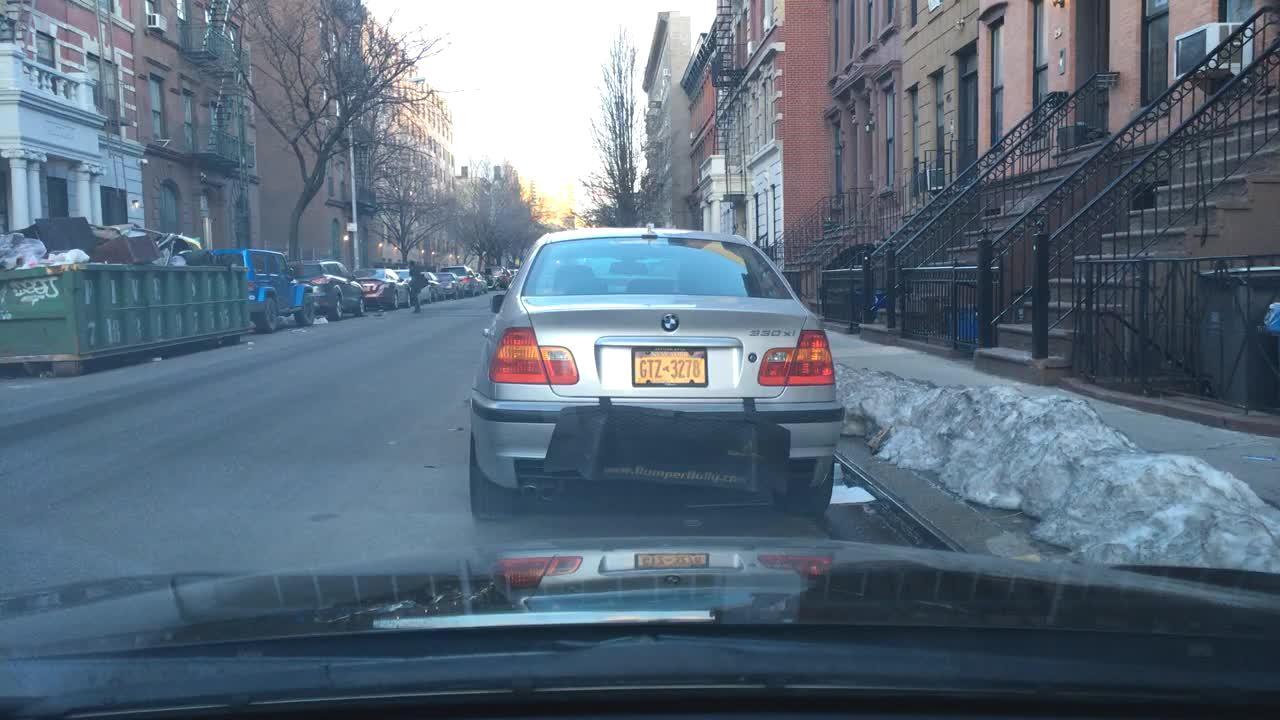bmw: (655, 306, 684, 343)
